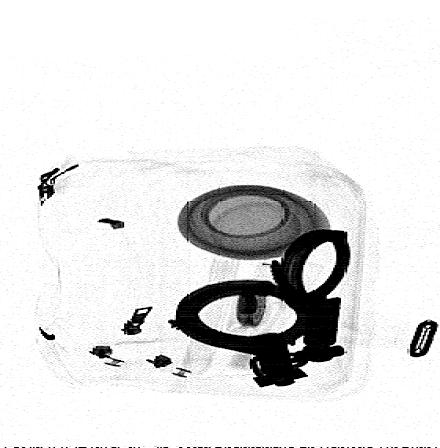HandCuffs: (165, 228, 354, 388)
